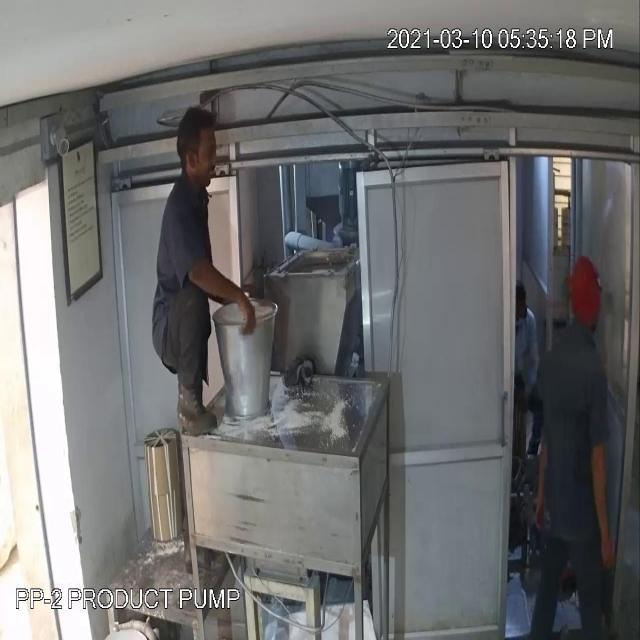No_Gloves: (36, 121, 604, 514)
